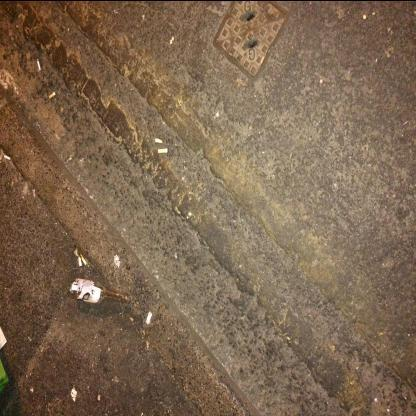cam: (70, 277, 130, 305)
